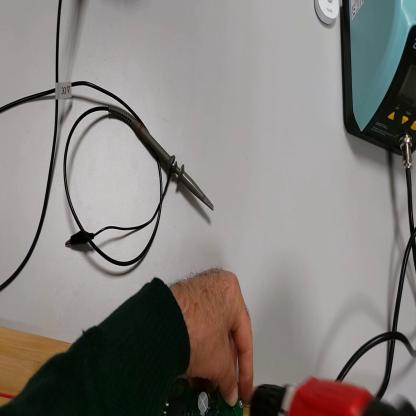electric screwdriver: (244, 375, 416, 416)
hand: (173, 266, 256, 406)
high voltage board: (161, 378, 245, 416)
oscilloscope probe tip: (111, 110, 215, 211)
welder station: (340, 3, 416, 145)
working area: (1, 327, 75, 407)
